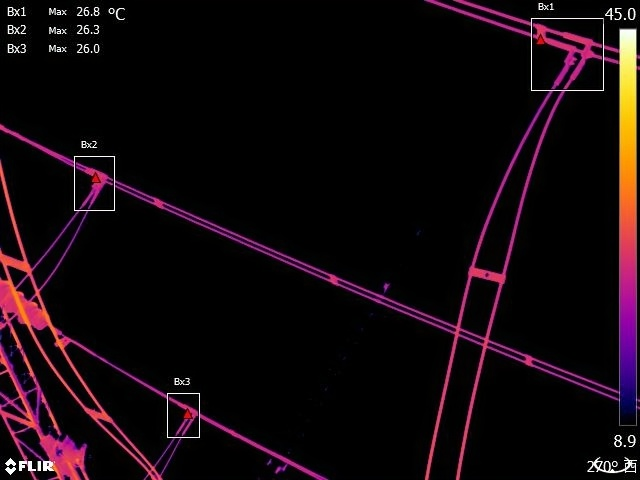clamp: (555, 30, 601, 75), (81, 160, 116, 206), (171, 404, 196, 432)
insulator: (1, 267, 51, 331)
